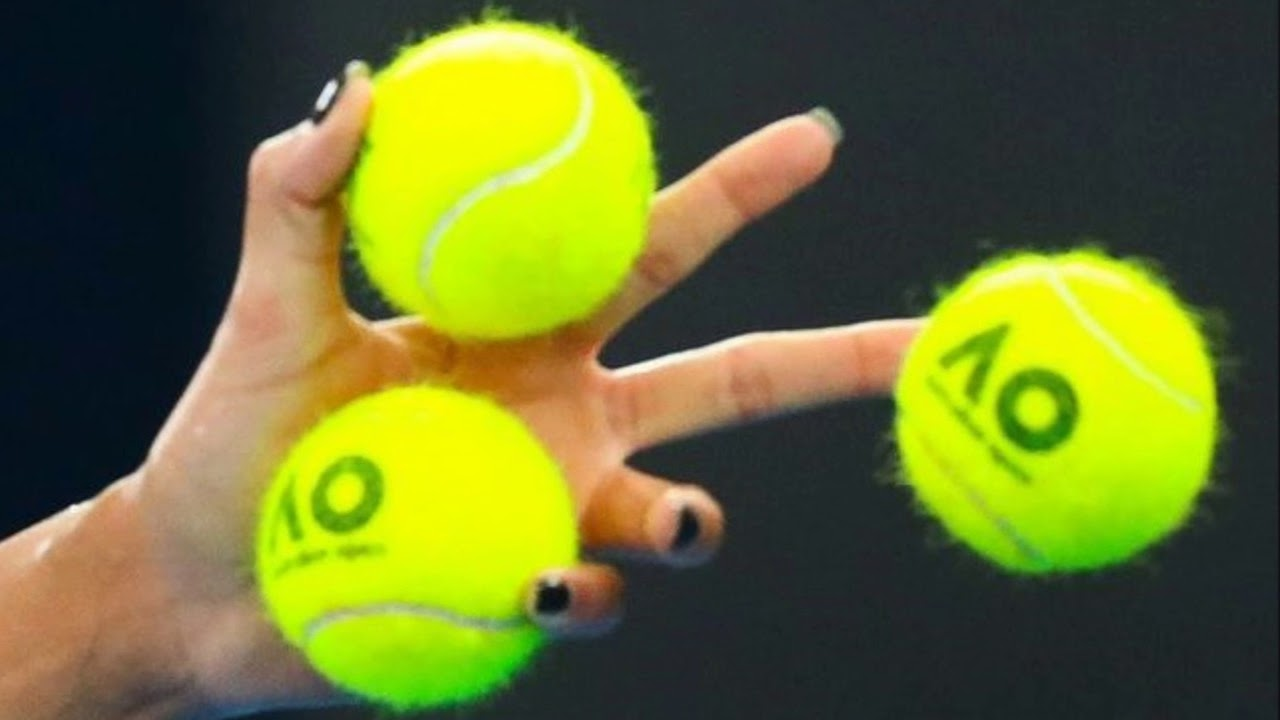aim: (879, 247, 1218, 575), (248, 386, 580, 710), (339, 22, 651, 342)
